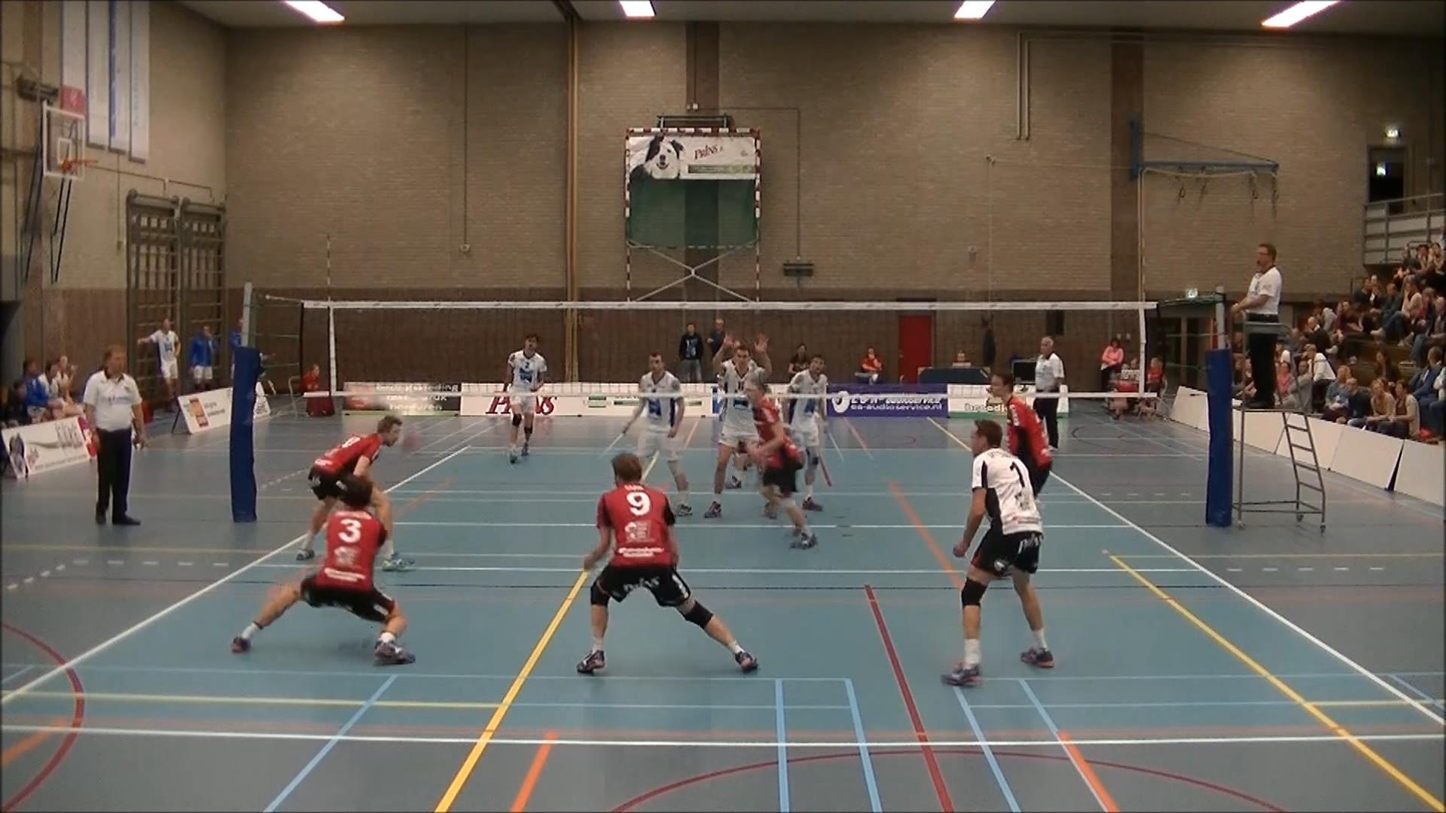Player: (576, 454, 758, 674), (943, 421, 1053, 686), (296, 415, 401, 560), (704, 334, 771, 518), (746, 379, 816, 549), (622, 352, 691, 516), (991, 372, 1051, 497), (784, 354, 828, 510), (505, 333, 547, 463)
Receive: (229, 476, 424, 670)
